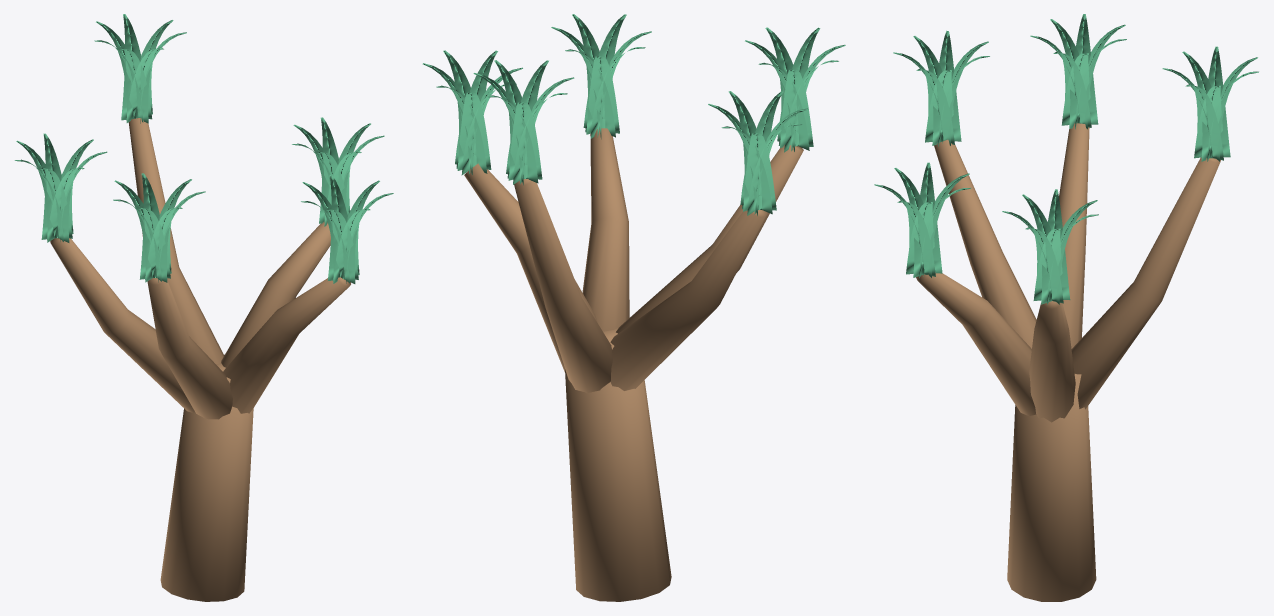
Rendered from frangipani.glb.
3 views of the same model, side by side, from view 1: azimuth 30°, elevation 25°; view 2: azimuth 150°, elevation 25°; view 3: azimuth 270°, elevation 25° (orthographic). The views are drawn at different scales.
Visible parts, largest first — view 1: frangipani; view 2: frangipani; view 3: frangipani.
Boxes of the visible parts, <box> form: frangipani: <box>14,14,393,601</box>; frangipani: <box>422,14,845,601</box>; frangipani: <box>874,14,1258,601</box>.
Size of the model in its own units: 1.68 by 2.33 by 1.55.
